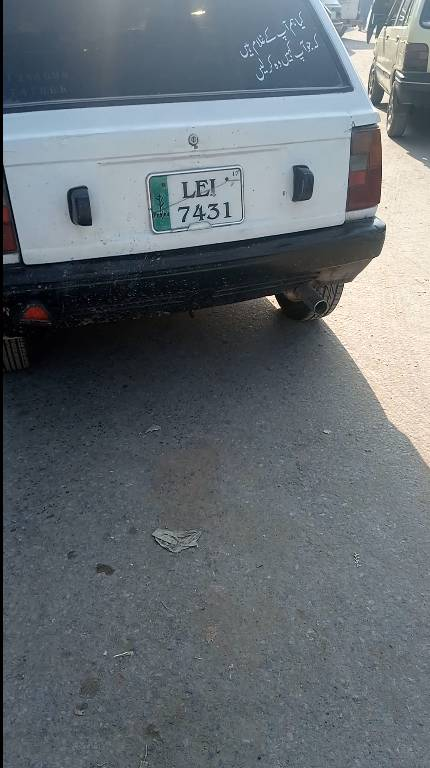number_plate: (142, 173, 254, 231)
